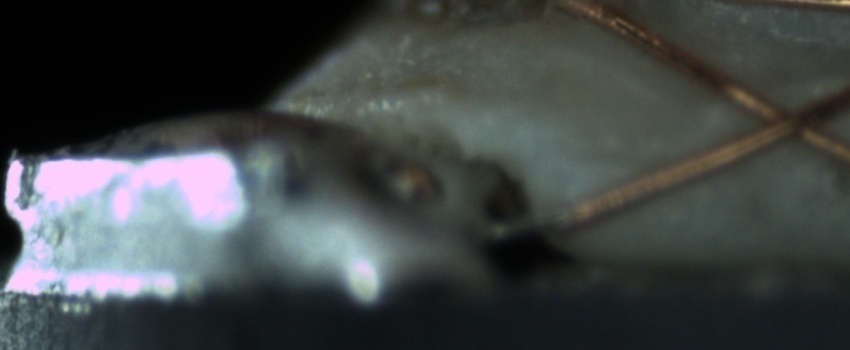CL: (720, 74, 843, 158)
TS: (484, 207, 576, 240)
